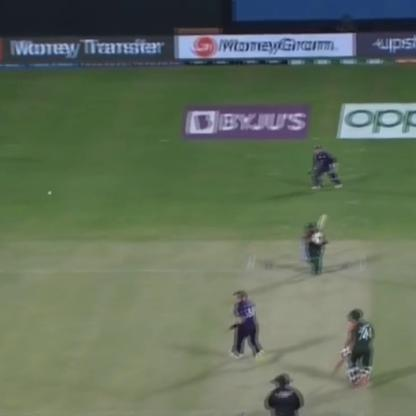ball: (40, 187, 54, 200)
pitch: (231, 239, 373, 416)
